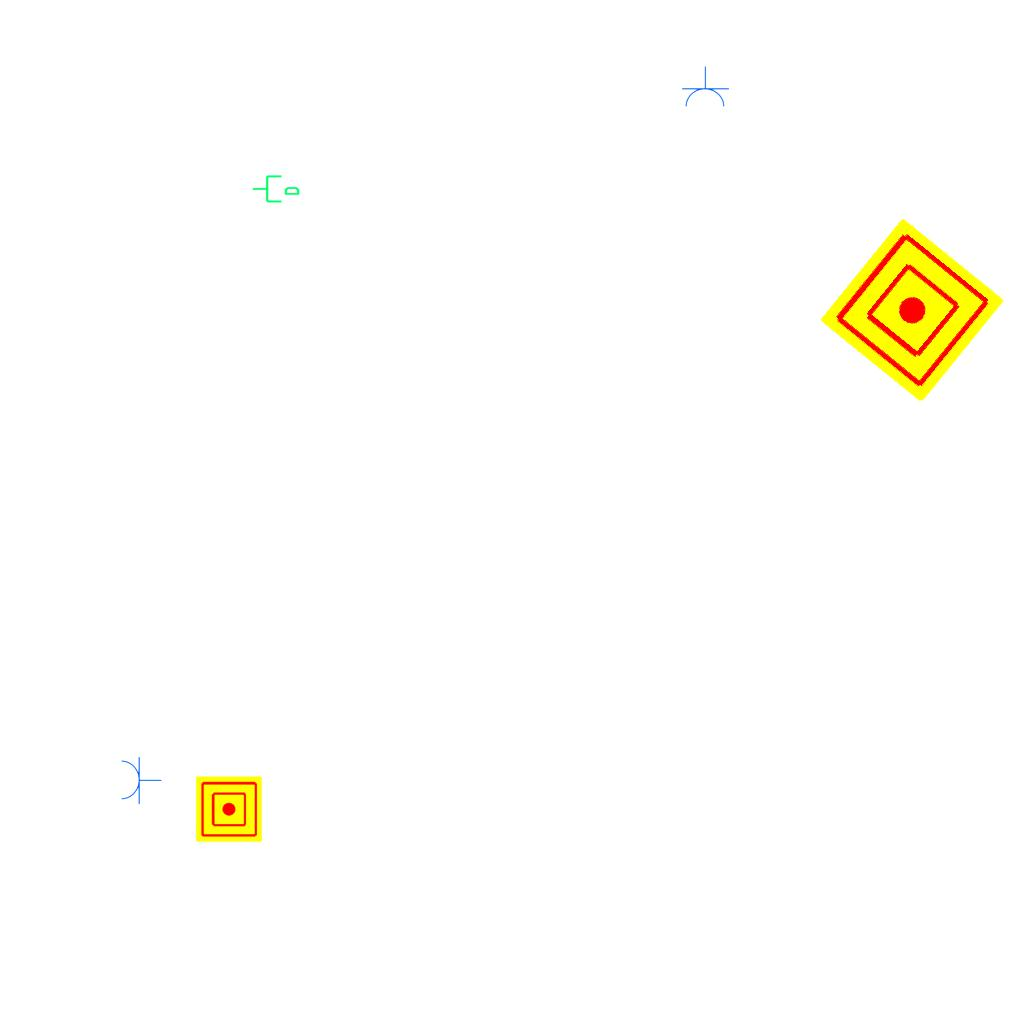Datenanschluss_einfach: (251, 171, 301, 205)
NAM-Nichtautomatischer_Melder: (819, 217, 1005, 403), (196, 776, 262, 842)
Schukosteckdose_einfach: (119, 755, 162, 805), (680, 66, 730, 109)
